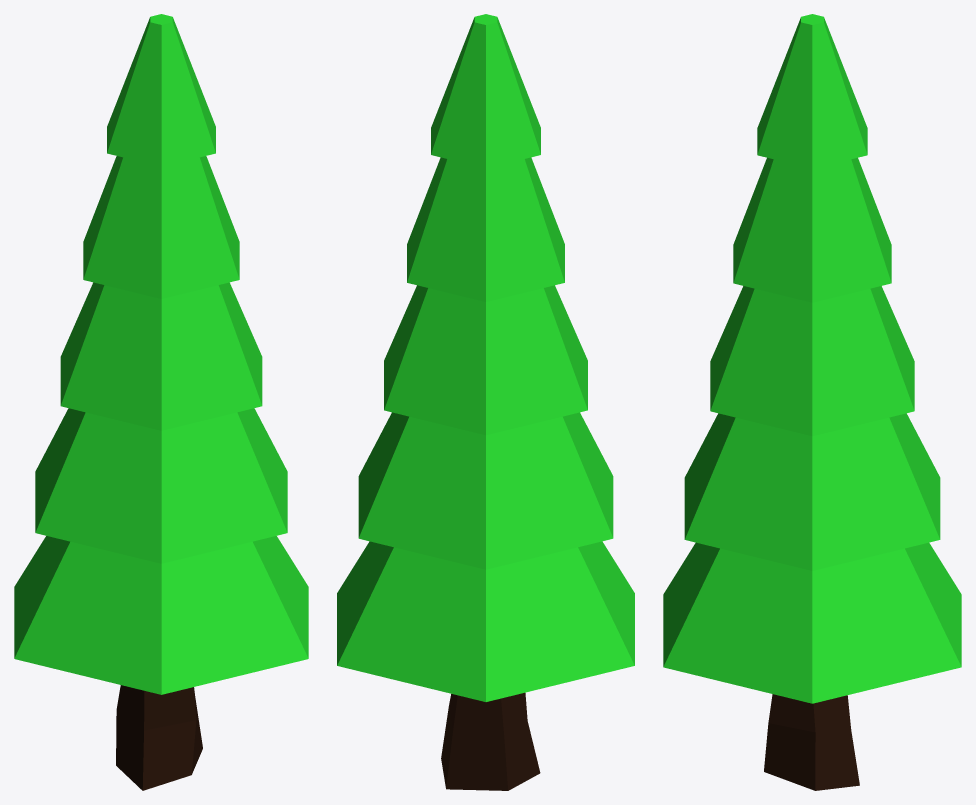
File: Tree004.FBX
The picture shows the model from 3 angles, left to right: view 1: azimuth 30°, elevation 25°; view 2: azimuth 150°, elevation 25°; view 3: azimuth 270°, elevation 25°; orthographic projection.
Visible parts, largest first — view 1: Cone001, Cone002; view 2: Cone001, Cone002; view 3: Cone001, Cone002.
Boxes of the visible parts, x1,y1,x2,y2 form: Cone001: (14, 14, 308, 694); Cone002: (116, 685, 202, 790); Cone001: (337, 14, 634, 701); Cone002: (441, 692, 540, 790); Cone001: (663, 14, 961, 703); Cone002: (764, 694, 859, 790).
Bounding box in the file's own units: 45.74 × 111 × 39.61.
